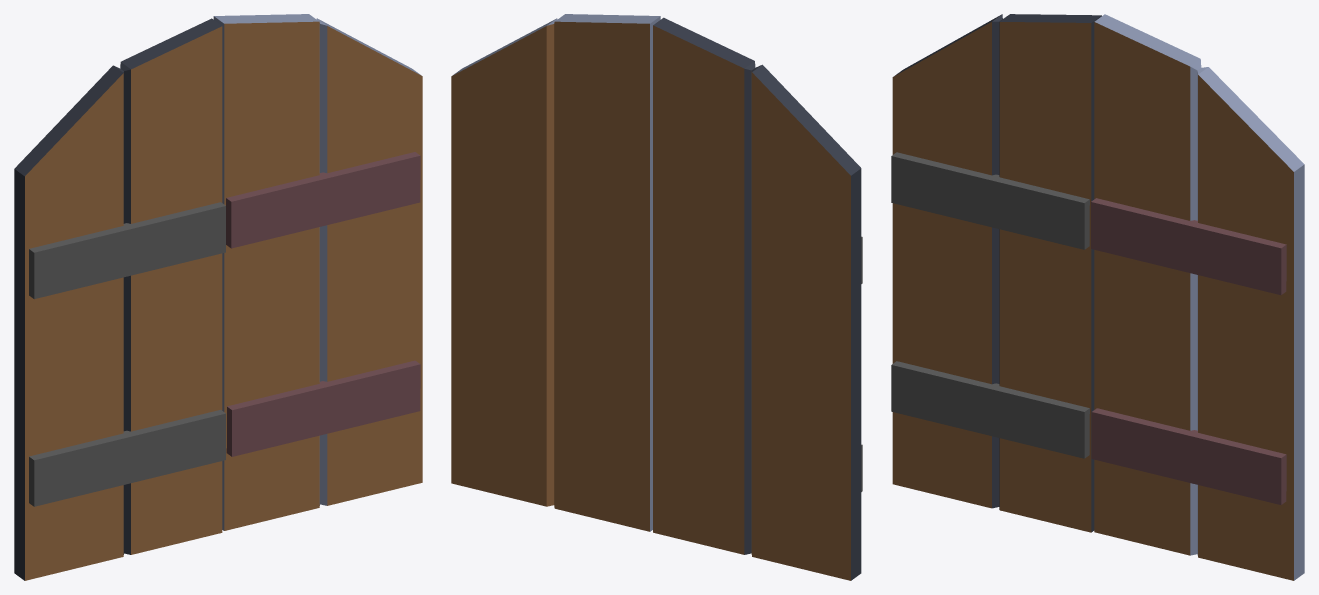
File: castle_door.fbx
3 renders of one model, left to right at view 1: azimuth 30°, elevation 25°; view 2: azimuth 150°, elevation 25°; view 3: azimuth 330°, elevation 25°, orthographic.
Visible parts, largest first — view 1: Castle_gate_3_1_mat, Castle_gate_3_2_mat; view 2: Castle_gate_3_1_mat, Castle_gate_3_2_mat; view 3: Castle_gate_3_2_mat, Castle_gate_3_1_mat.
Part boxes in pixels (box(x1,y1,x2,y2)): Castle_gate_3_1_mat: box(14, 18, 225, 580); Castle_gate_3_2_mat: box(213, 14, 422, 530); Castle_gate_3_1_mat: box(653, 17, 862, 580); Castle_gate_3_2_mat: box(451, 14, 660, 531); Castle_gate_3_2_mat: box(1091, 14, 1304, 580); Castle_gate_3_1_mat: box(891, 14, 1101, 532).
Bounding box in the file's own units: 126 × 154 × 8.97.
